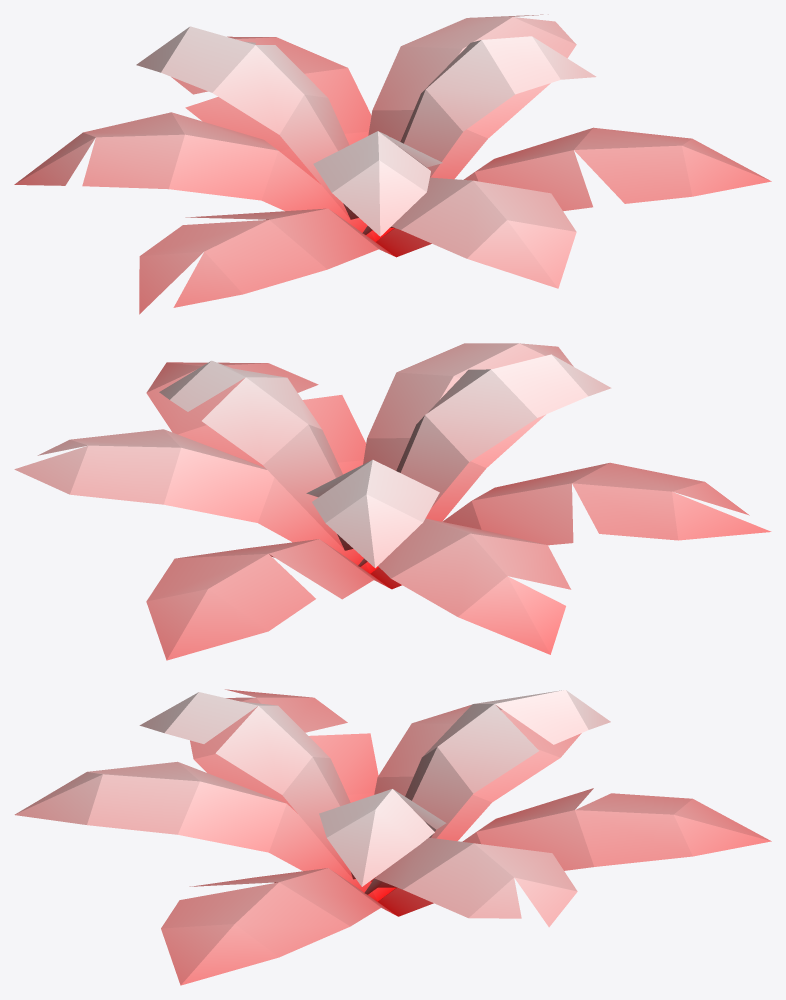
3 renders of one model, top to bottom at view 1: azimuth 30°, elevation 25°; view 2: azimuth 150°, elevation 25°; view 3: azimuth 270°, elevation 25°, orthographic. The views are drawn at different scales.
Visible parts, largest first — view 1: SM_Plant_Fern_01; view 2: SM_Plant_Fern_01; view 3: SM_Plant_Fern_01.
Part boxes in pixels (x1,y1,x2,y2): SM_Plant_Fern_01: (14,14,771,314); SM_Plant_Fern_01: (14,343,771,660); SM_Plant_Fern_01: (14,689,771,985).
Bounding box in the file's own units: 1.29 × 0.3419 × 1.4.
1 material, 1 textured.
